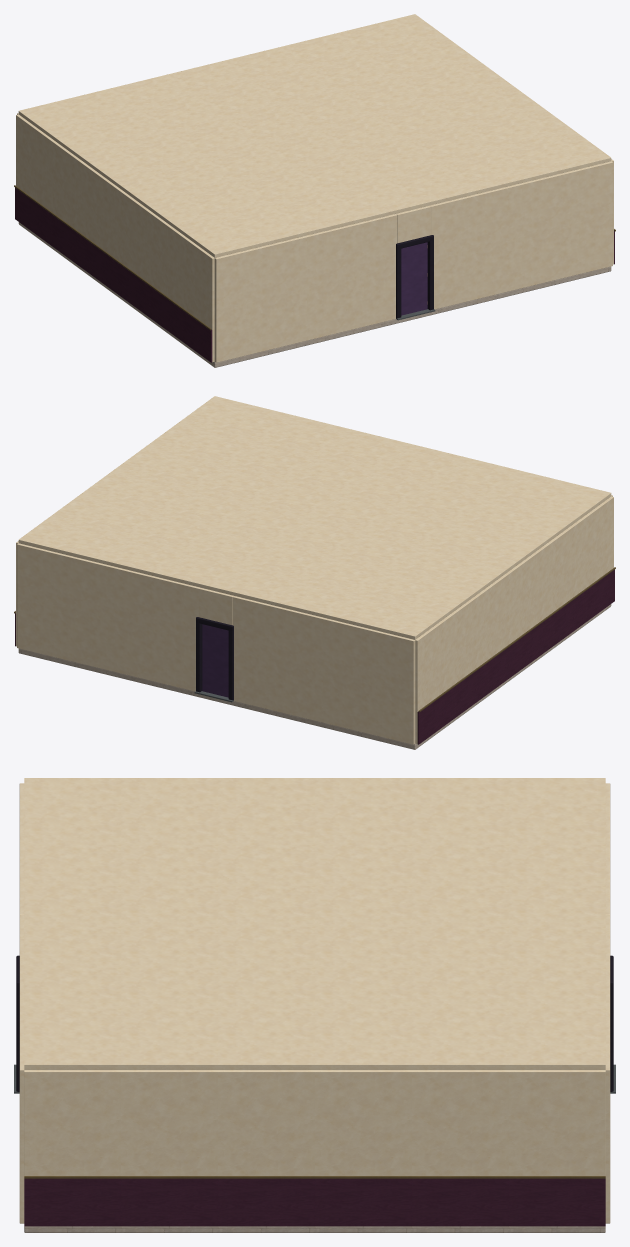
File: explore3d__shelter_reception.glb
3 renders of one model, top to bottom at view 1: azimuth 30°, elevation 25°; view 2: azimuth 150°, elevation 25°; view 3: azimuth 270°, elevation 25°, orthographic. The views are drawn at different scales.
Visible parts, largest first — view 1: ceiling.041, wall.111, wall.110, wall.114, lower_panel.113, shelter_reception_floor, front.033_leaf, door_lintel.029, panel_rail.113; view 2: ceiling.041, wall.112, wall.113, wall.114, lower_panel.113, shelter_reception_floor, north.020_leaf, door_lintel.030, panel_rail.113, north.020_jamb.001; view 3: ceiling.041, wall.115, lower_panel.114, shelter_reception_floor, panel_rail.114, wall.110, wall.113, wall.111, wall.112.
Part boxes in pixels (x1=…): ceiling.041: x1=18, y1=14, x2=611, y2=257; wall.111: x1=214, y1=214, x2=397, y2=362; wall.110: x1=430, y1=161, x2=612, y2=309; wall.114: x1=16, y1=114, x2=214, y2=362; lower_panel.113: x1=15, y1=187, x2=212, y2=362; shelter_reception_floor: x1=18, y1=222, x2=611, y2=367; front.033_leaf: x1=401, y1=242, x2=427, y2=315; door_lintel.029: x1=396, y1=205, x2=431, y2=242; panel_rail.113: x1=14, y1=185, x2=211, y2=330; ceiling.041: x1=18, y1=396, x2=611, y2=639; wall.112: x1=232, y1=596, x2=415, y2=744; wall.113: x1=17, y1=543, x2=199, y2=691; wall.114: x1=415, y1=496, x2=613, y2=744; lower_panel.113: x1=417, y1=569, x2=614, y2=744; shelter_reception_floor: x1=18, y1=604, x2=611, y2=749; north.020_leaf: x1=202, y1=624, x2=228, y2=697; door_lintel.030: x1=198, y1=587, x2=233, y2=624; panel_rail.113: x1=418, y1=567, x2=615, y2=712; north.020_jamb.001: x1=196, y1=620, x2=202, y2=692; ceiling.041: x1=24, y1=778, x2=605, y2=1069; wall.115: x1=24, y1=1070, x2=605, y2=1175; lower_panel.114: x1=24, y1=1178, x2=605, y2=1226; shelter_reception_floor: x1=24, y1=1226, x2=605, y2=1232; panel_rail.114: x1=24, y1=1176, x2=605, y2=1178; wall.110: x1=19, y1=939, x2=24, y2=1223; wall.113: x1=605, y1=939, x2=610, y2=1223; wall.111: x1=19, y1=783, x2=24, y2=914; wall.112: x1=605, y1=783, x2=610, y2=914.
Size of the model in its own units: 14.32 by 3.84 by 12.42.
Materials: 18 (16 with a texture image).
